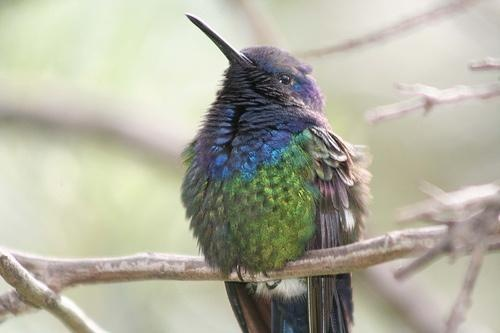bird: (179, 11, 358, 333)
